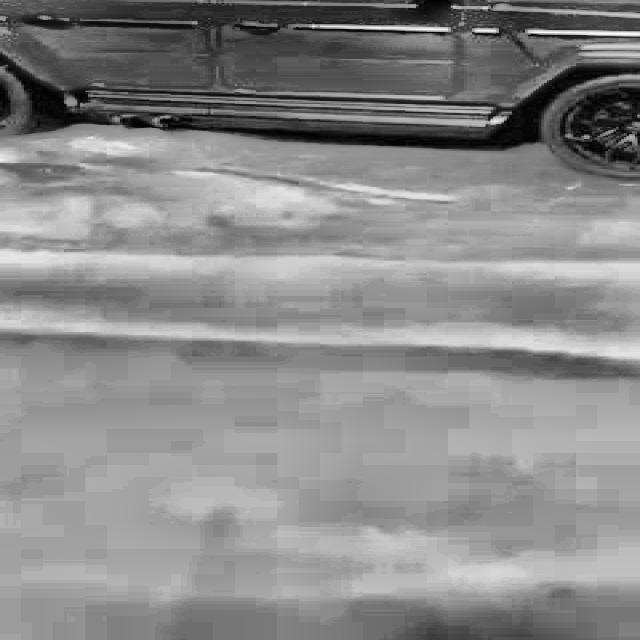light_vehicle: (0, 0, 640, 181)
